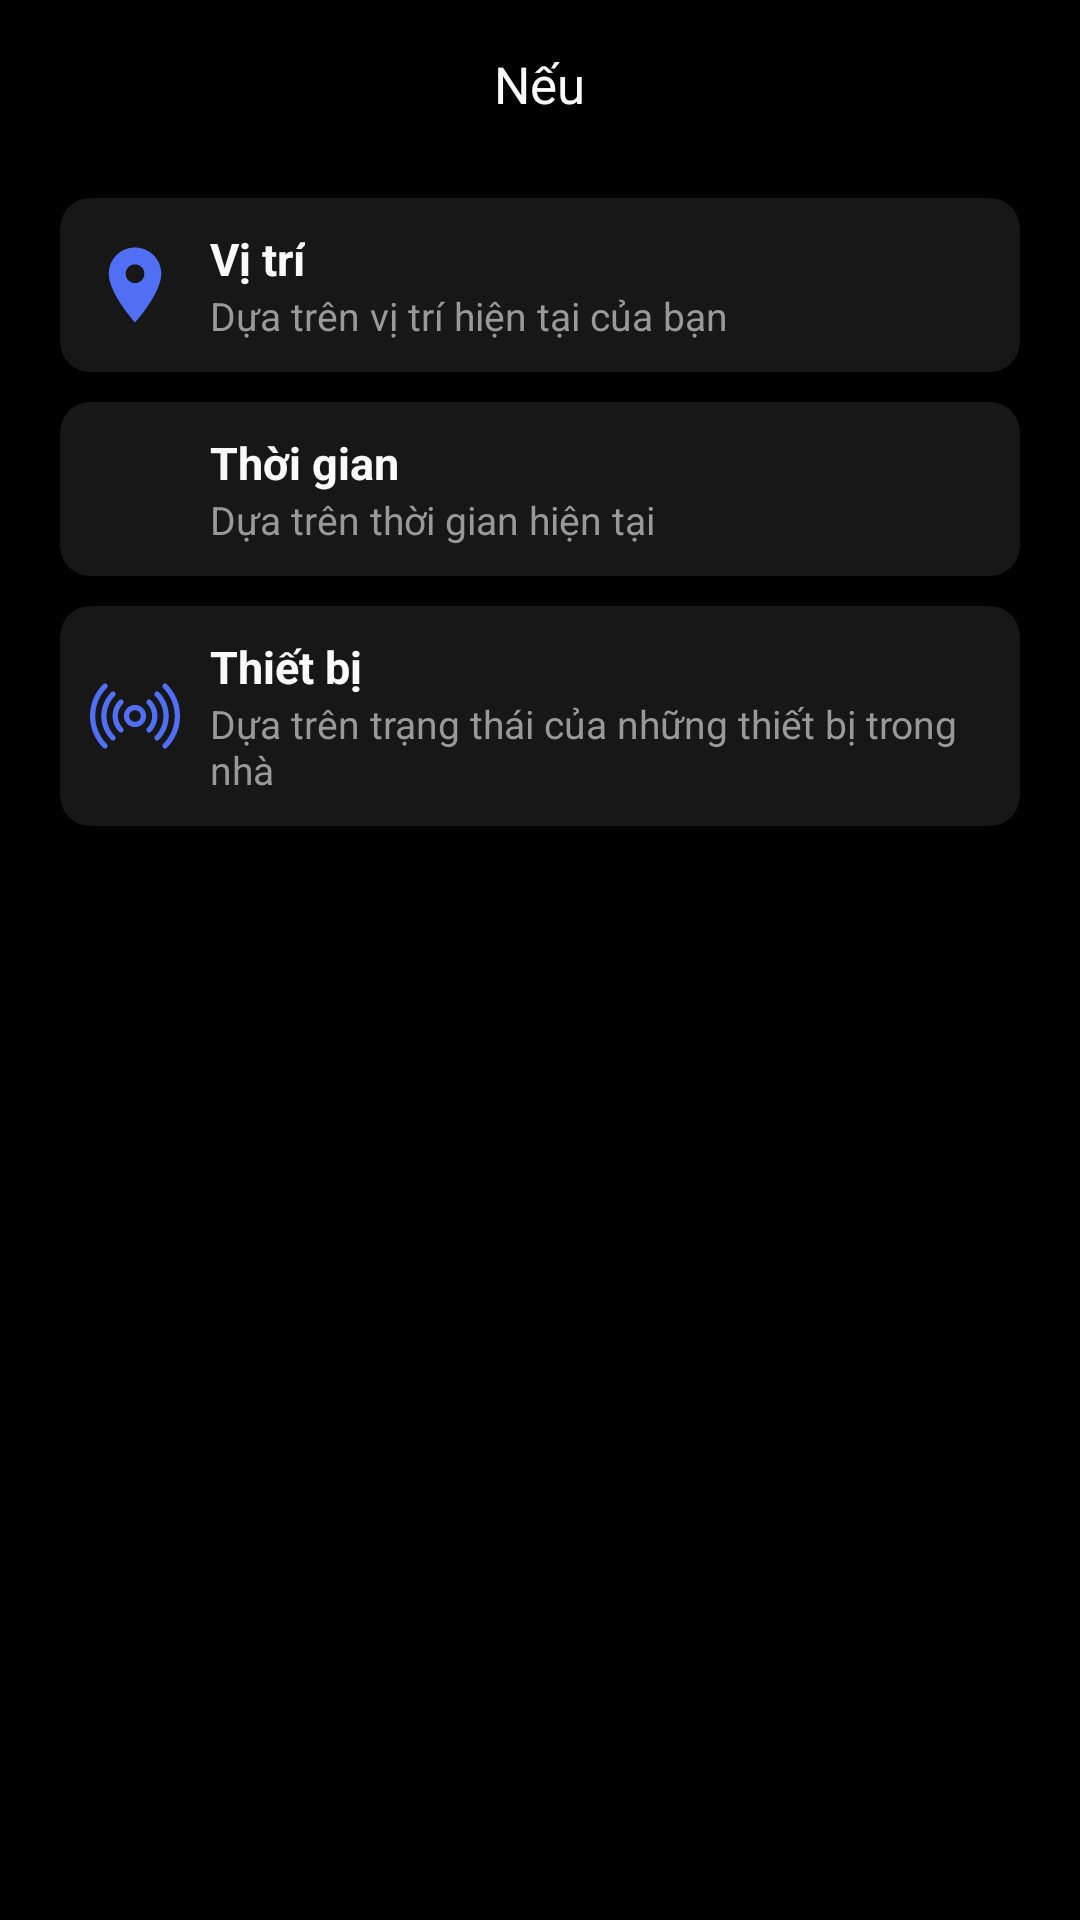

Where icons sit on this 1080px×1920px app screen, as {"left": x1, "top": y1, "right": x2, "bottom": y2}:
location on: {"left": 108, "top": 247, "right": 162, "bottom": 322}
sensor: {"left": 90, "top": 683, "right": 180, "bottom": 749}
